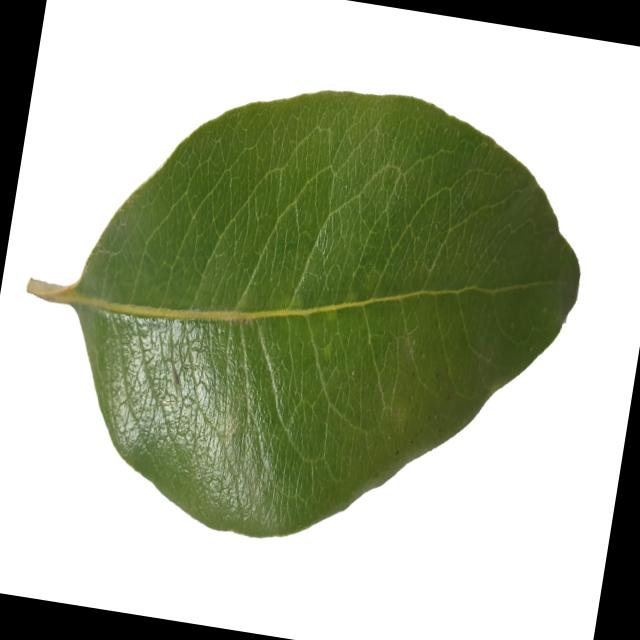Medicinal-Sandalwood: (0, 40, 605, 583)
